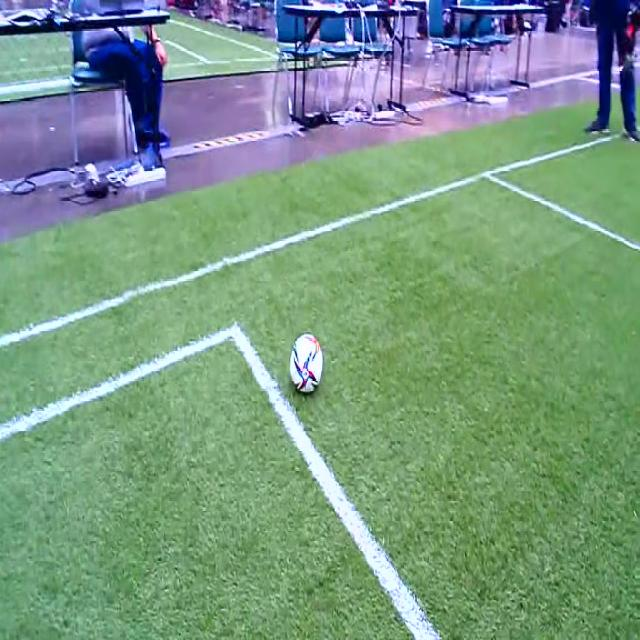ball: (290, 333, 322, 392)
